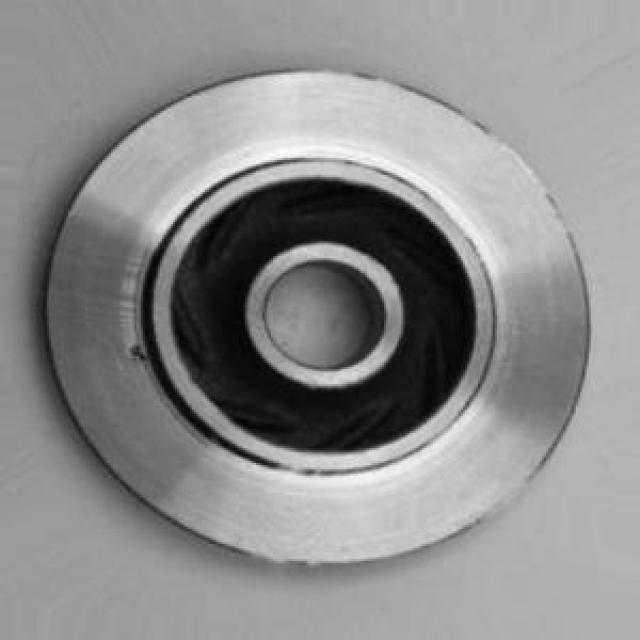Defect: (120, 335, 159, 372)
